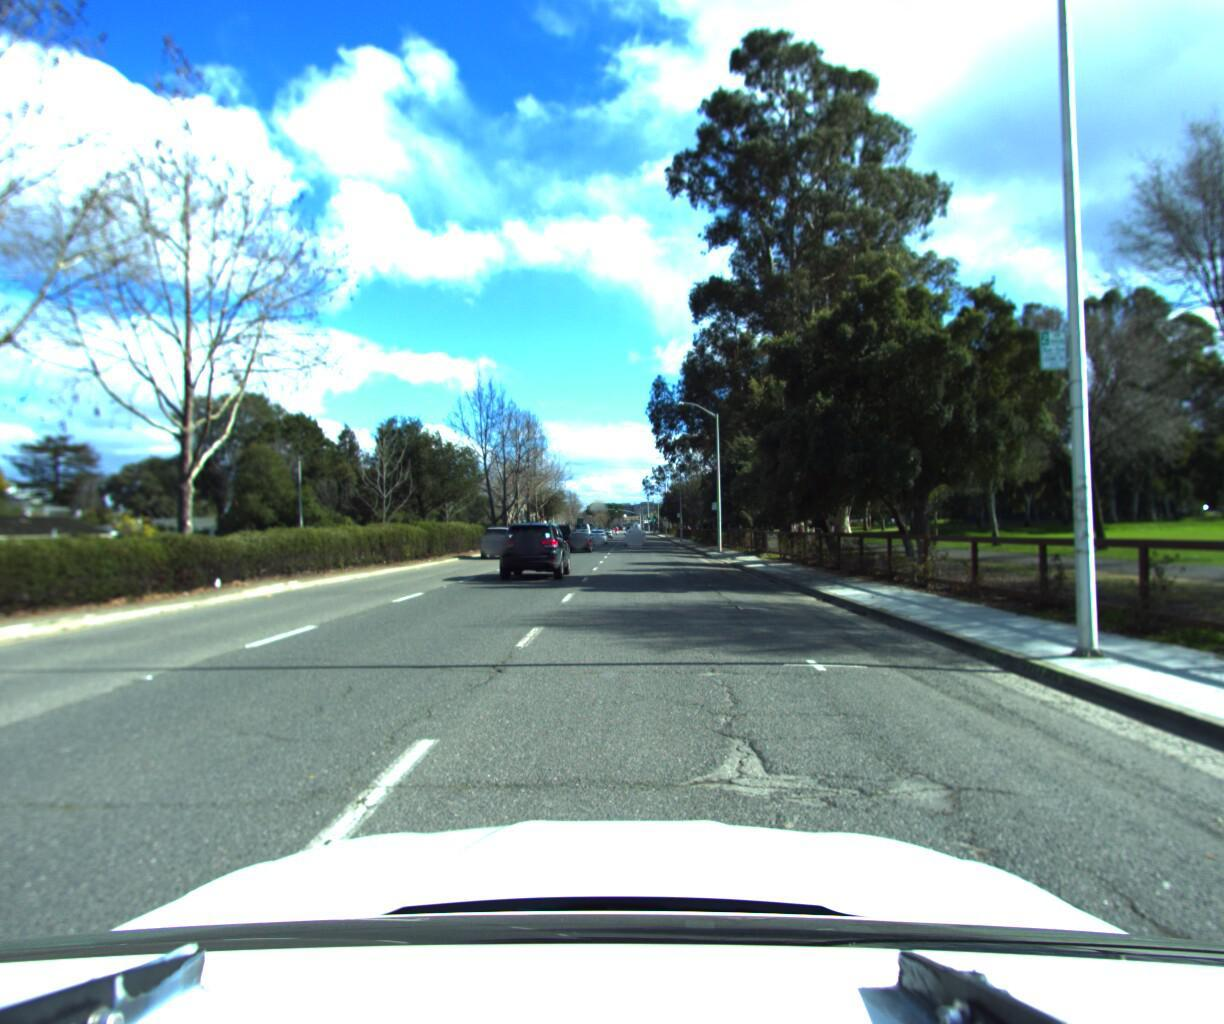car: (491, 520, 570, 581), (471, 525, 521, 561), (561, 528, 594, 557), (623, 528, 646, 544), (589, 528, 609, 543)
